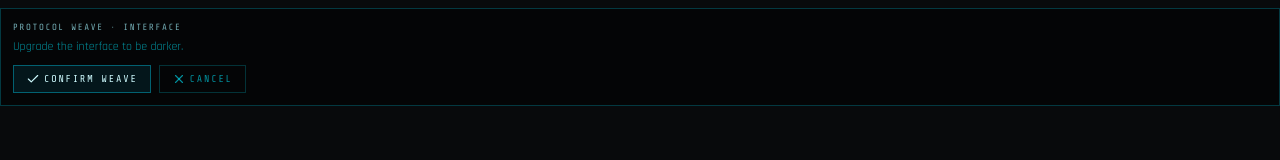
ProtocolUpgradeConfirmCard › does nothing until Confirm weave is pressed
Step 1. Click the button "Confirm weave" → x=82, y=78, box [13,64,151,92]
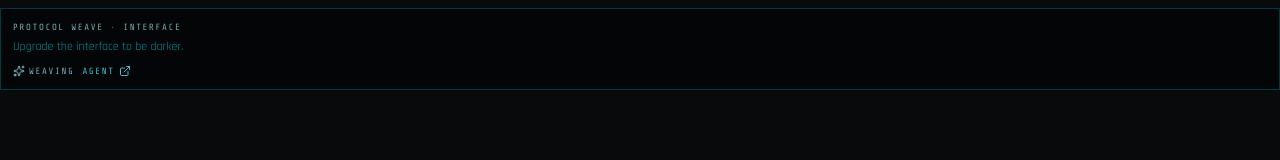
expect the text "Weaving" is shown: met, box [13,64,74,76]
